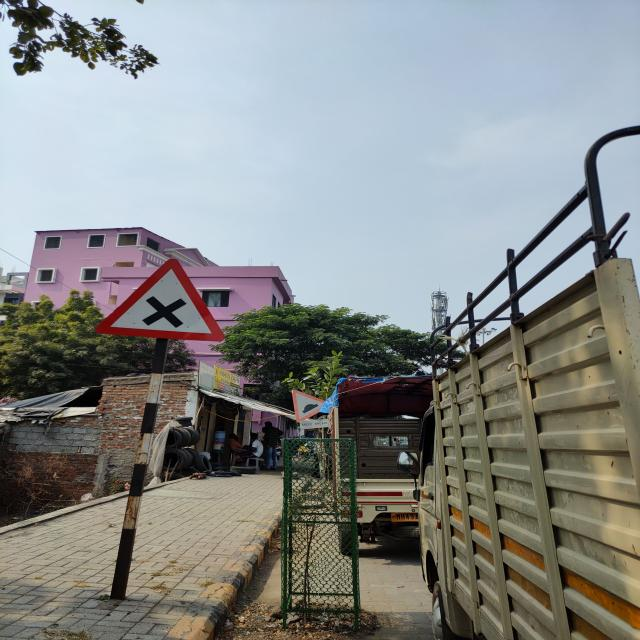CROSS_ROAD: (92, 256, 228, 343)
